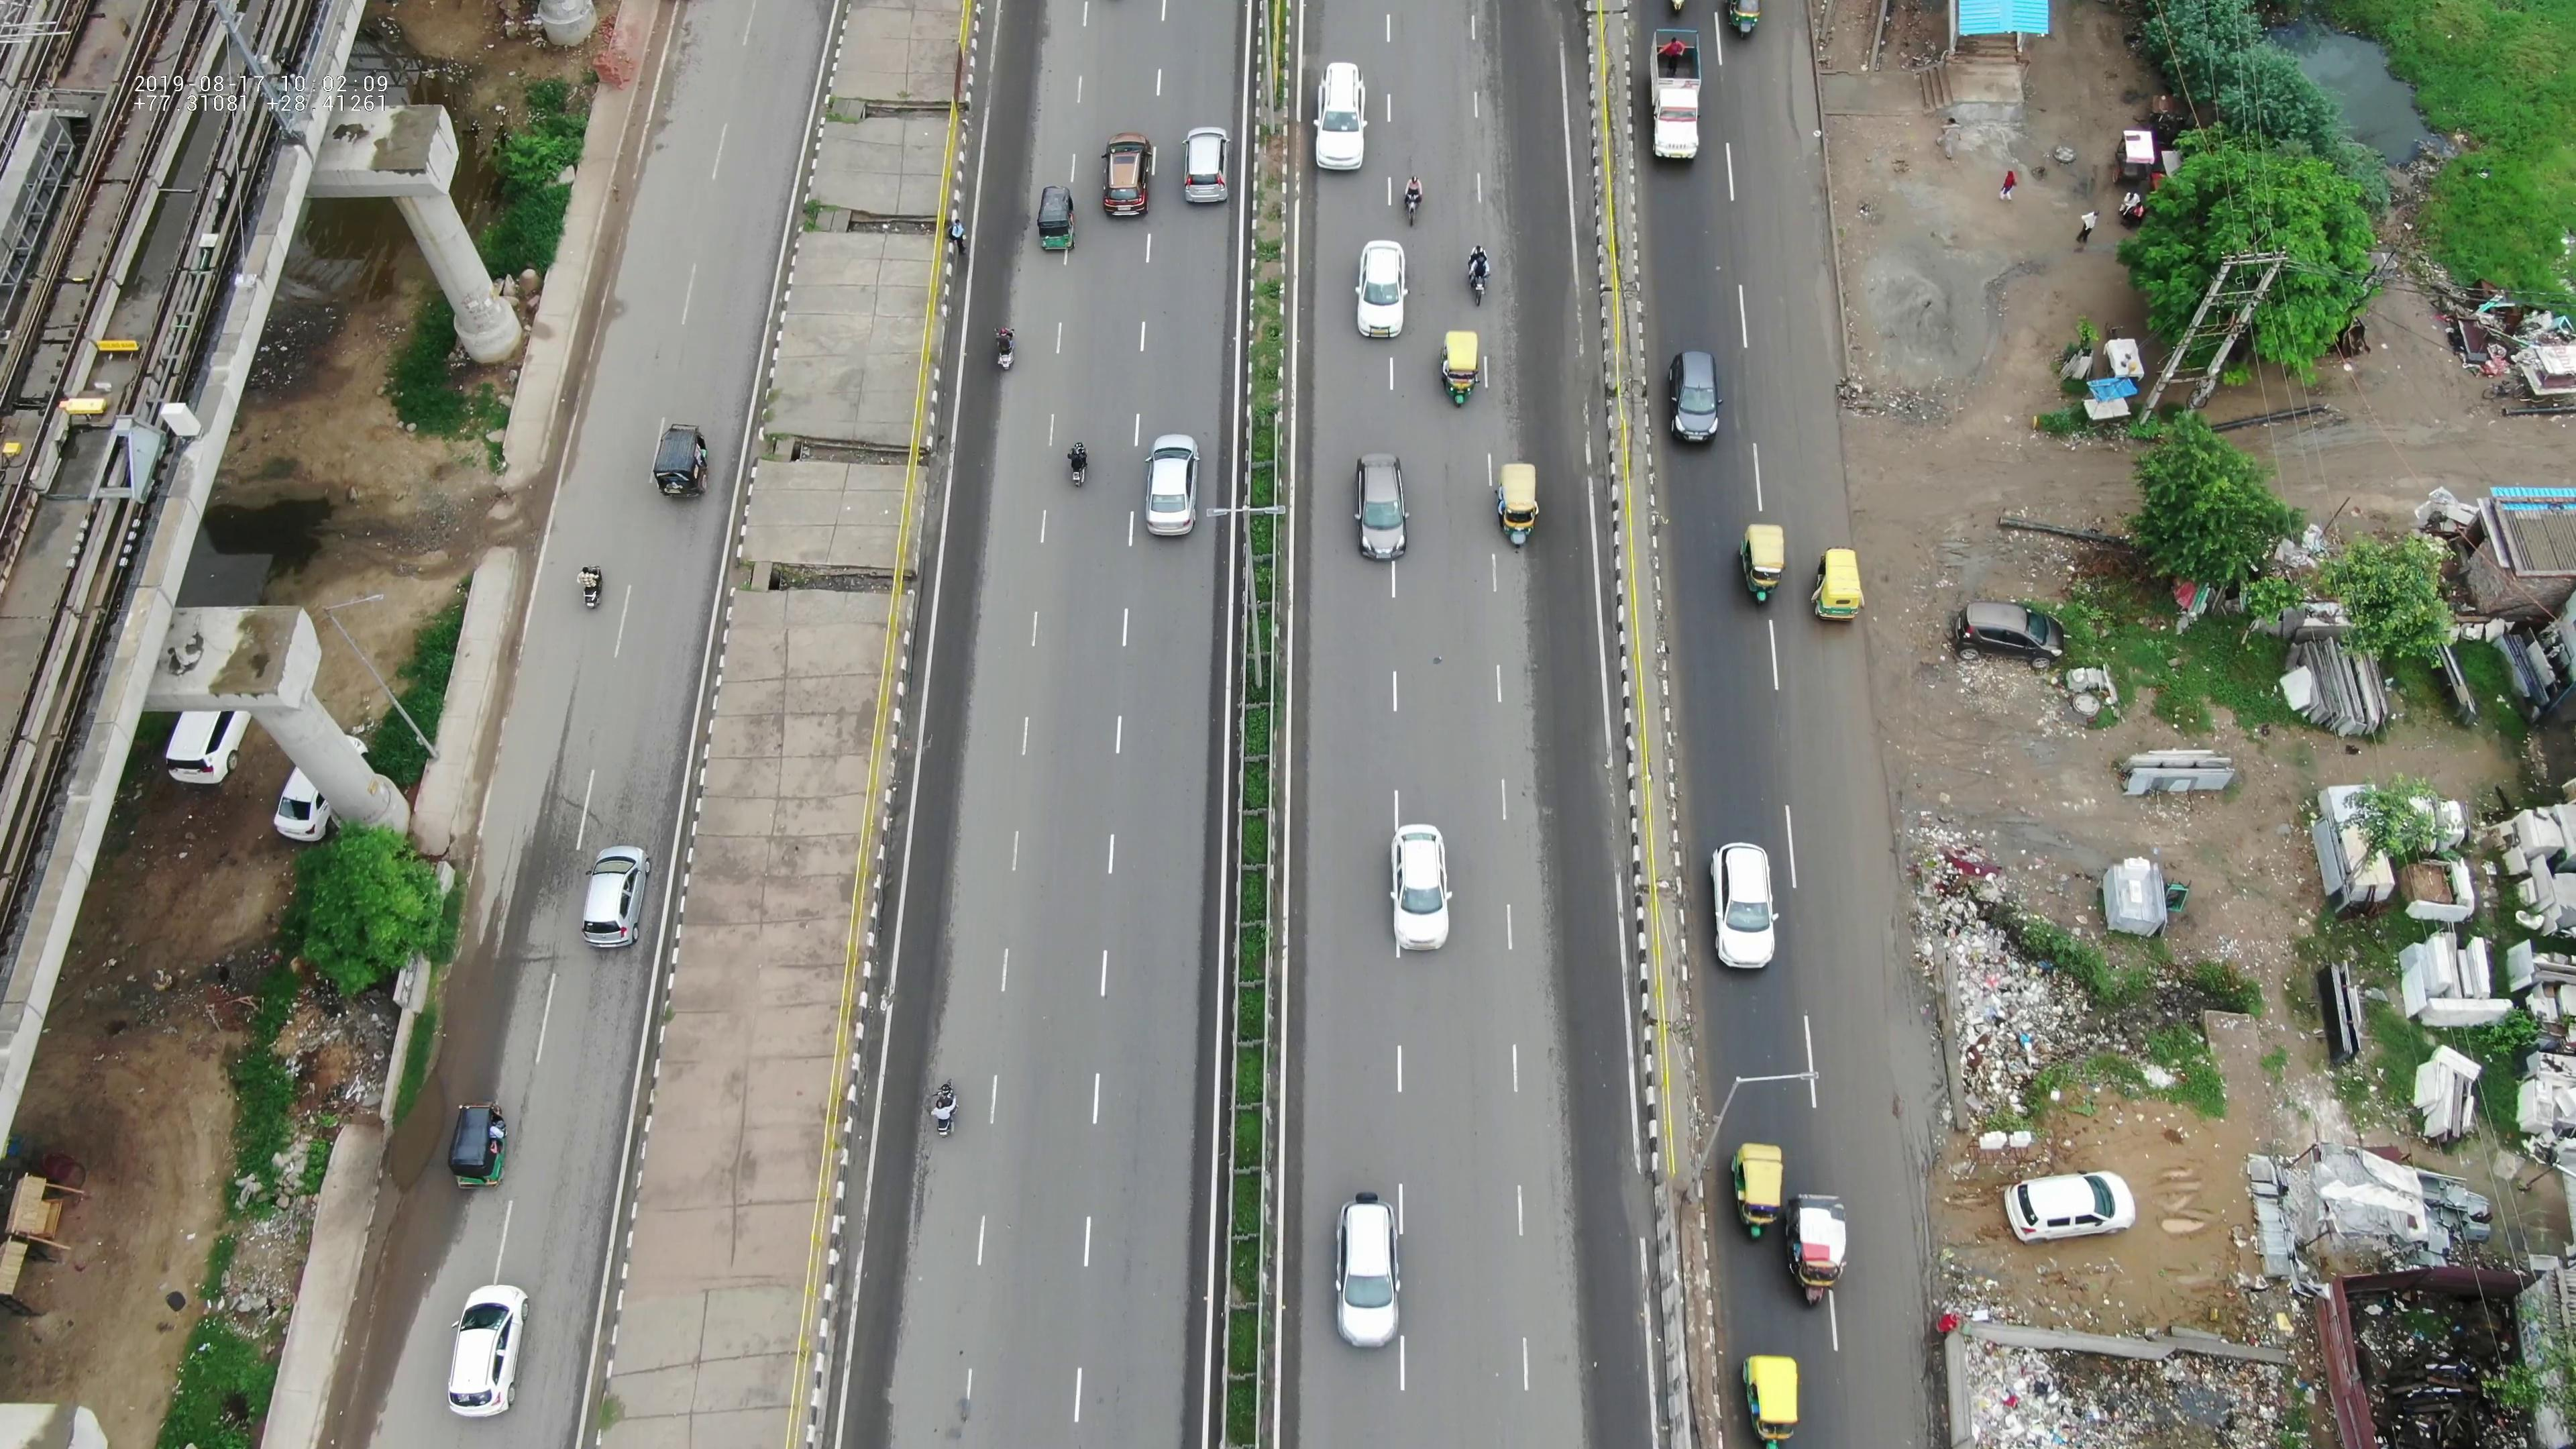Road_side_garbage: (1905, 839, 2112, 1131)
